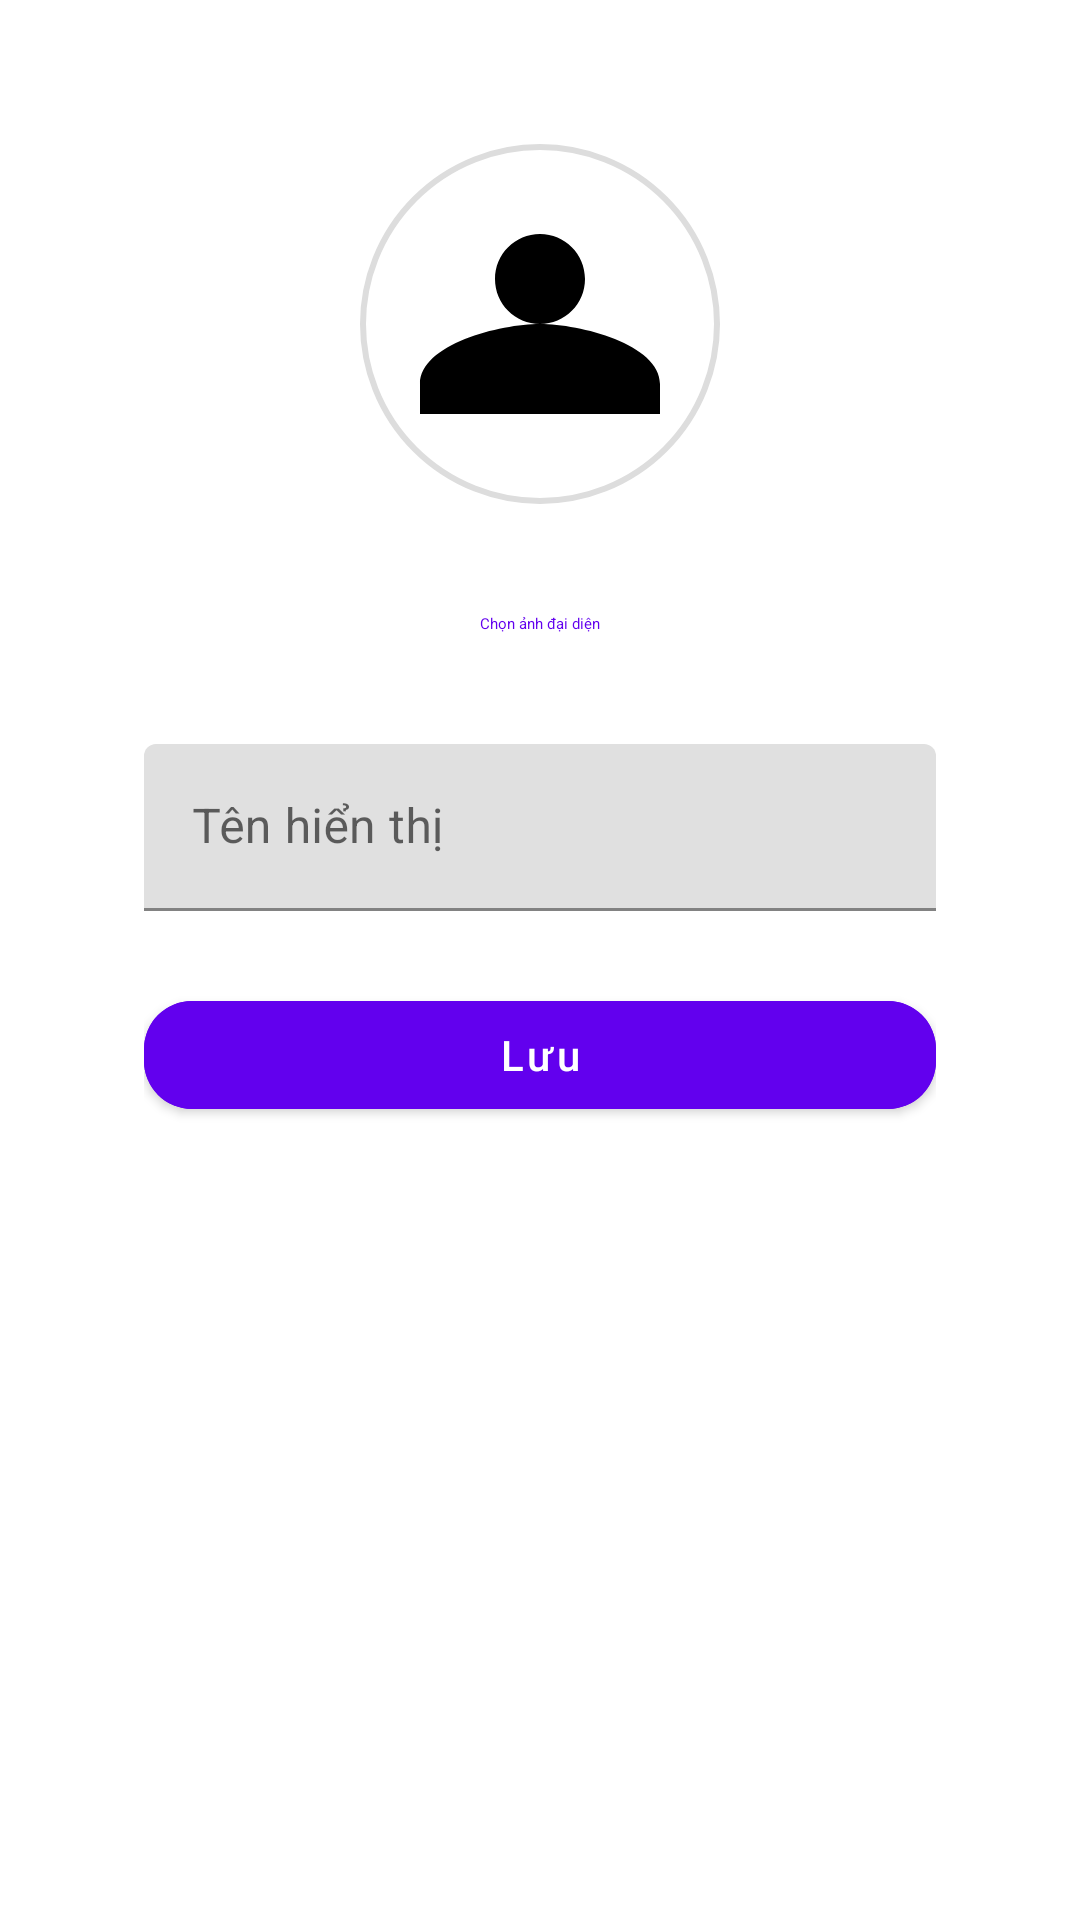

Where to tap for icons on this 1080 × 1920 app screen, as (x,y):
person: (540,324)
